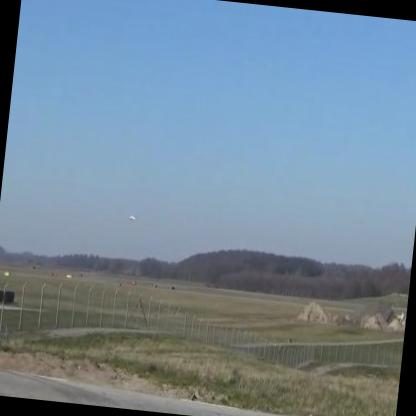plane: (124, 210, 138, 227)
